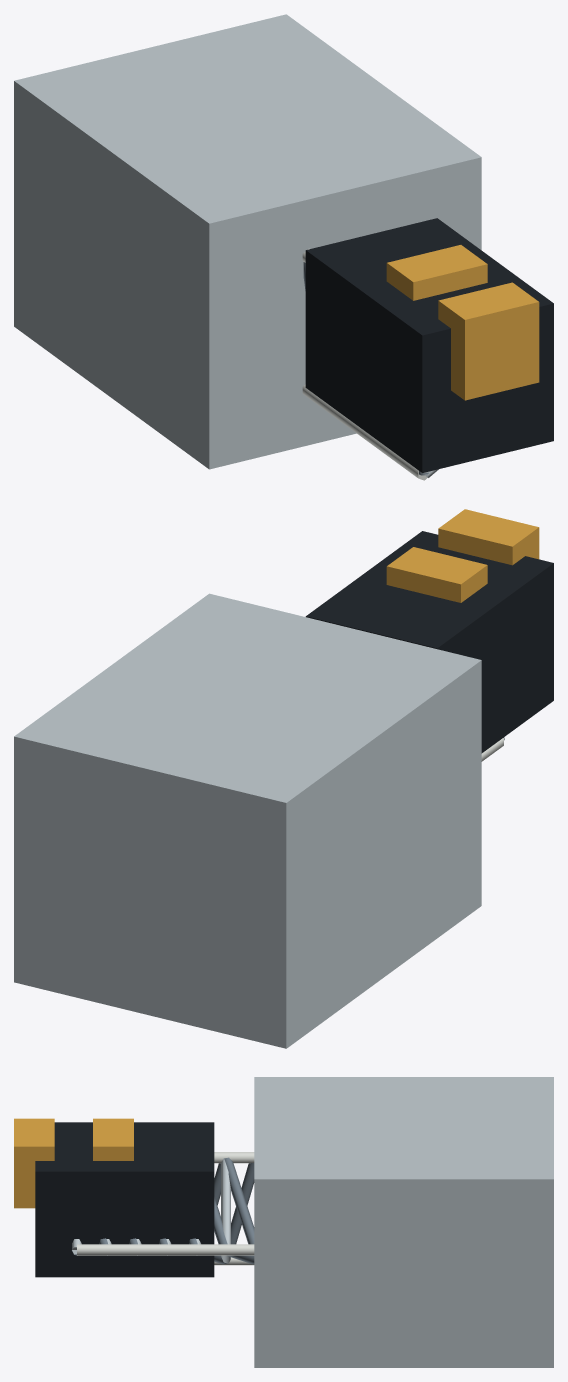
The model's file is voyager_mag_boom_stowed.glb.
3 renders of one model, top to bottom at view 1: azimuth 30°, elevation 25°; view 2: azimuth 150°, elevation 25°; view 3: azimuth 270°, elevation 25°, orthographic. The views are drawn at different scales.
Parts seen in each view (by area): view 1: voyager_mag_boom.mesh_Satin_aluminum, voyager_mag_boom.deployable_truss.magnetometer_02.mesh_Carbo, voyager_mag_boom.deployable_truss.magnetometer_01.mesh_Carbo, voyager_mag_boom.deployable_truss.magnetometer_02.mesh_Gold_, voyager_mag_boom.deployable_truss.magnetometer_01.mesh_Gold_, voyager_mag_boom.deployable_truss.mesh_Pale_thermal_blanket; view 2: voyager_mag_boom.mesh_Satin_aluminum, voyager_mag_boom.deployable_truss.magnetometer_02.mesh_Carbo, voyager_mag_boom.deployable_truss.magnetometer_01.mesh_Carbo, voyager_mag_boom.deployable_truss.magnetometer_02.mesh_Gold_, voyager_mag_boom.deployable_truss.magnetometer_01.mesh_Gold_; view 3: voyager_mag_boom.mesh_Satin_aluminum, voyager_mag_boom.deployable_truss.magnetometer_01.mesh_Carbo, voyager_mag_boom.deployable_truss.magnetometer_02.mesh_Carbo, voyager_mag_boom.deployable_truss.magnetometer_02.mesh_Gold_, voyager_mag_boom.deployable_truss.mesh_Pale_thermal_blanket, voyager_mag_boom.deployable_truss.mesh_Machined_steel, voyager_mag_boom.deployable_truss.magnetometer_01.mesh_Gold_, voyager_mag_boom.deployable_truss.mesh_Satin_aluminum.
Part boxes in pixels (x1,y1,x2,y2): voyager_mag_boom.mesh_Satin_aluminum: (14, 14, 481, 469); voyager_mag_boom.deployable_truss.magnetometer_02.mesh_Carbo: (358, 256, 553, 472); voyager_mag_boom.deployable_truss.magnetometer_01.mesh_Carbo: (305, 218, 500, 435); voyager_mag_boom.deployable_truss.magnetometer_02.mesh_Gold_: (438, 282, 539, 400); voyager_mag_boom.deployable_truss.magnetometer_01.mesh_Gold_: (386, 245, 487, 300); voyager_mag_boom.deployable_truss.mesh_Pale_thermal_blanket: (302, 248, 427, 480); voyager_mag_boom.mesh_Satin_aluminum: (14, 593, 481, 1048); voyager_mag_boom.deployable_truss.magnetometer_02.mesh_Carbo: (362, 531, 553, 747); voyager_mag_boom.deployable_truss.magnetometer_01.mesh_Carbo: (305, 568, 502, 753); voyager_mag_boom.deployable_truss.magnetometer_02.mesh_Gold_: (438, 509, 539, 565); voyager_mag_boom.deployable_truss.magnetometer_01.mesh_Gold_: (386, 547, 487, 602); voyager_mag_boom.mesh_Satin_aluminum: (254, 1077, 553, 1367); voyager_mag_boom.deployable_truss.magnetometer_01.mesh_Carbo: (114, 1122, 214, 1277); voyager_mag_boom.deployable_truss.magnetometer_02.mesh_Carbo: (35, 1122, 134, 1277); voyager_mag_boom.deployable_truss.magnetometer_02.mesh_Gold_: (14, 1118, 54, 1208); voyager_mag_boom.deployable_truss.mesh_Pale_thermal_blanket: (77, 1152, 254, 1265); voyager_mag_boom.deployable_truss.mesh_Machined_steel: (72, 1157, 254, 1264); voyager_mag_boom.deployable_truss.magnetometer_01.mesh_Gold_: (93, 1118, 133, 1160); voyager_mag_boom.deployable_truss.mesh_Satin_aluminum: (72, 1158, 230, 1263).
Size of the model in its own units: 0.29 by 0.25 by 0.6485.
